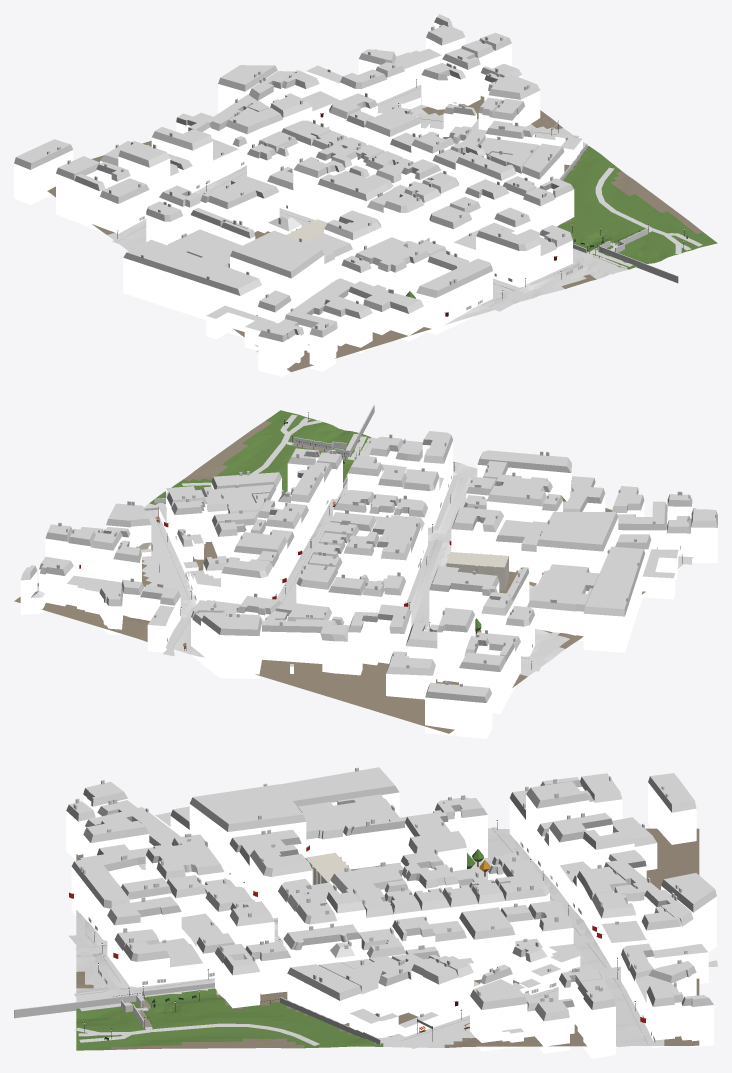
Rendered from zone_H5.glb.
3 renders of one model, top to bottom at view 1: azimuth 30°, elevation 25°; view 2: azimuth 150°, elevation 25°; view 3: azimuth 270°, elevation 25°, orthographic. The views are drawn at different scales.
Parts seen in each view (by area): view 1: zone_H5_batiments, zone_H5_terrain, zone_H5_sol_NOCOL; view 2: zone_H5_batiments, zone_H5_terrain, zone_H5_sol_NOCOL; view 3: zone_H5_batiments, zone_H5_terrain, zone_H5_sol_NOCOL, zone_H5_commune_NOCOL, zone_H5_decor_NOCOL.
Boxes of the visible parts, x1,y1,x2,y2 form: zone_H5_batiments: (14, 14, 678, 376); zone_H5_terrain: (47, 84, 717, 372); zone_H5_sol_NOCOL: (112, 85, 702, 352); zone_H5_batiments: (20, 405, 717, 738); zone_H5_terrain: (14, 410, 693, 733); zone_H5_sol_NOCOL: (37, 414, 692, 671); zone_H5_batiments: (14, 767, 716, 1058); zone_H5_terrain: (76, 828, 699, 1050); zone_H5_sol_NOCOL: (69, 827, 717, 1048); zone_H5_commune_NOCOL: (69, 842, 655, 1042); zone_H5_decor_NOCOL: (84, 820, 635, 1040).
Size of the model in its own units: 224 by 35.05 by 241.
